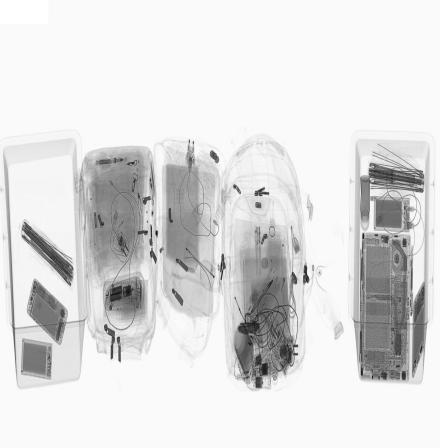Knife: (238, 322, 261, 335)
